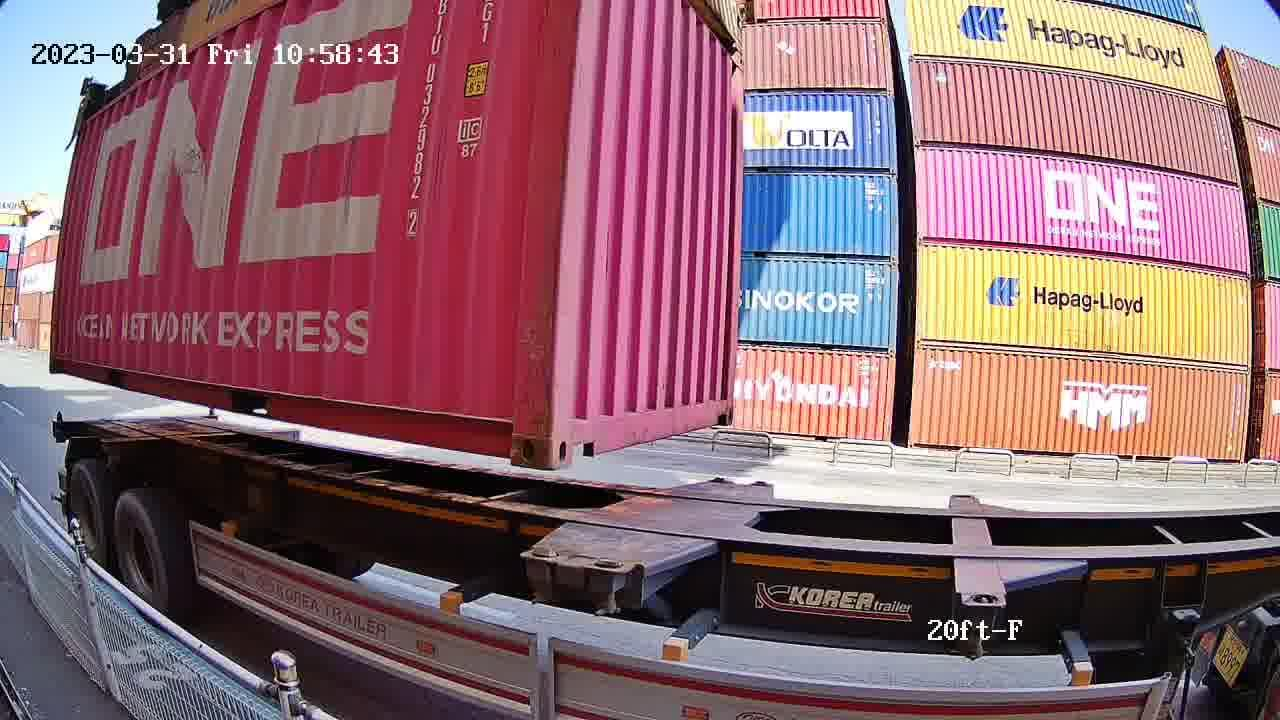Chassis: (522, 479, 730, 562), (591, 483, 770, 574)
Cone: (587, 557, 634, 621), (523, 546, 564, 608)
Hole_L: (549, 387, 605, 471)
Hole_R: (474, 384, 553, 469), (707, 386, 736, 427)
Tire: (114, 493, 172, 621), (66, 467, 108, 564)
